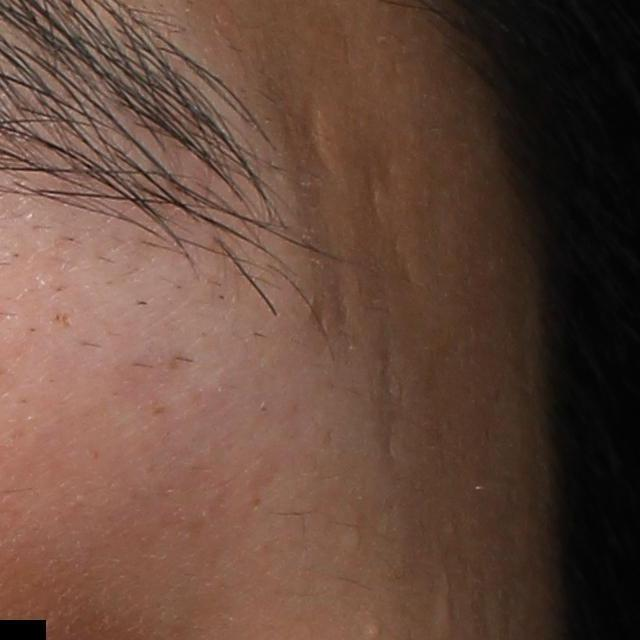atrophic_scar: (372, 321, 410, 469), (293, 87, 332, 178)
